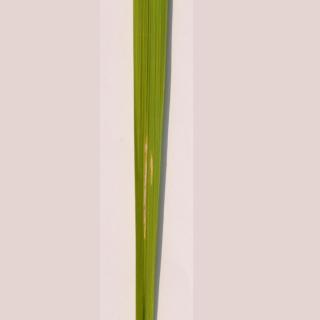Hawar-Daun: (131, 133, 170, 283)
